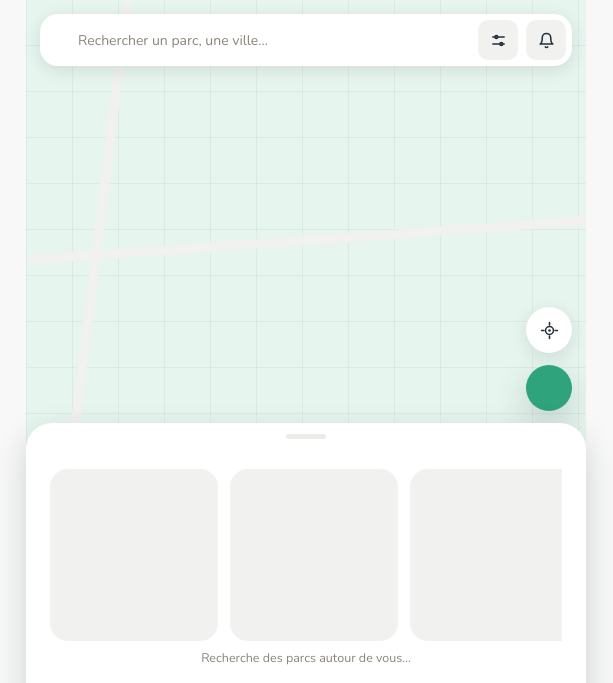
Test case: Explorer — recherche › geocoding error: the map centre does not change
Click the button "Rechercher un parc, une ville…" at (262, 40), box top-left (54, 14), bottom-right (470, 66)
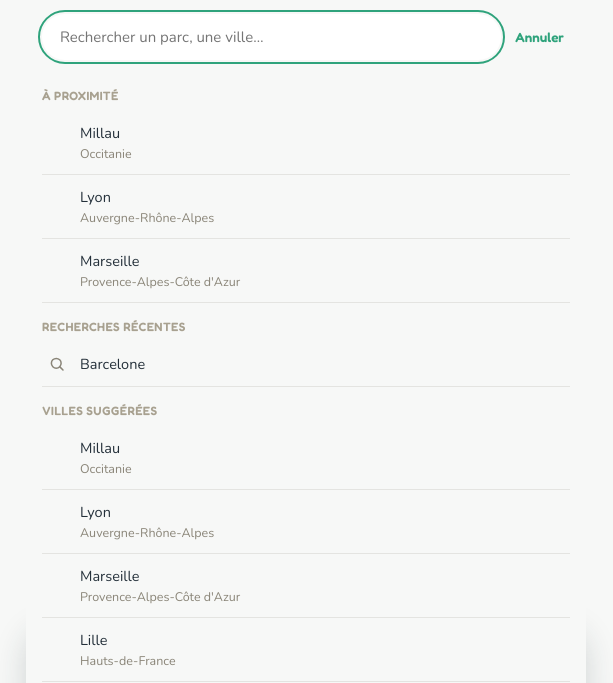
Type "Barcelone" into the field with placeholder "Rechercher un parc, une ville…" at (272, 37), box top-left (42, 14), bottom-right (501, 60)
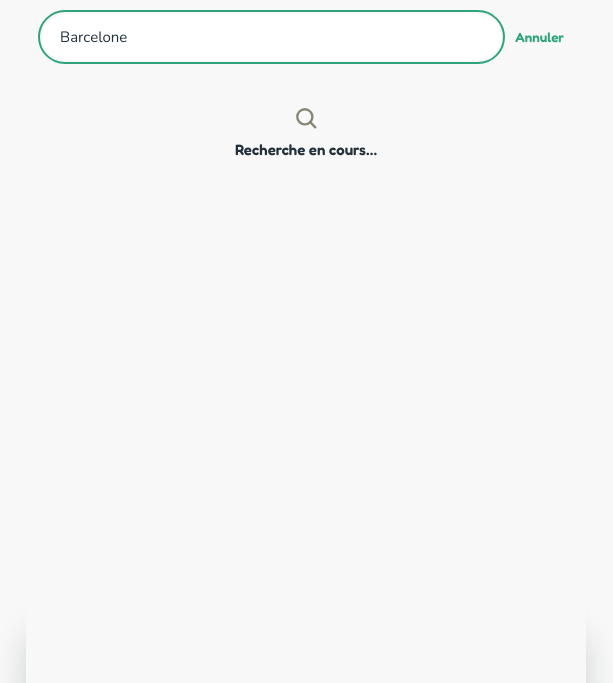
Submit the form with placeholder "Rechercher un parc, une ville…", box top-left (26, 0), bottom-right (586, 72)
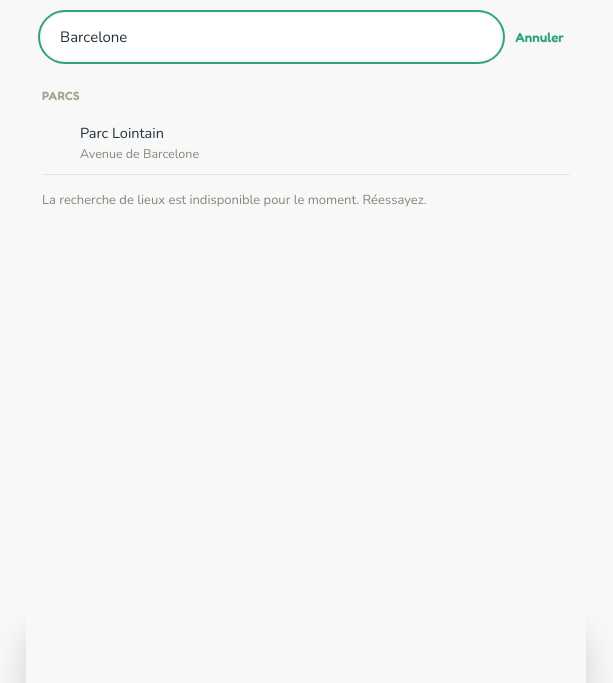
Expected: the text "La recherche de lieux est indisponible pour le moment. Réessayez." is shown, top-left (42, 191), bottom-right (427, 209)
